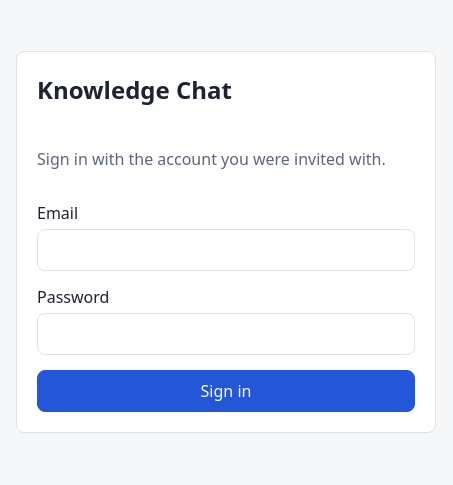
Scenario: a wrong password shows a message that does not reveal whether the account exists
Step 1. Type "nobody@example.com" into the field labelled "Email" → (226, 250), box x1=37 y1=229 x2=415 y2=271
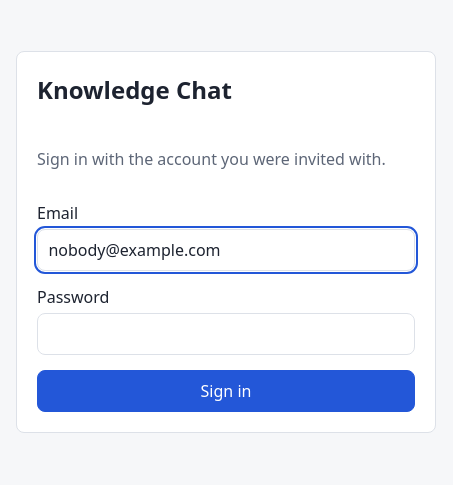
Step 2. Type "x" into the password field labelled "Password" → (226, 334), box x1=37 y1=313 x2=415 y2=355
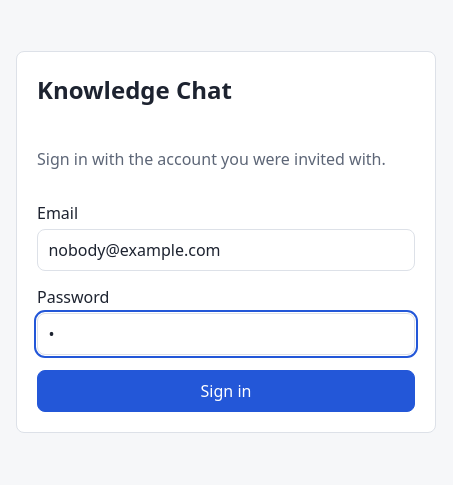
Step 3. Click the button "Sign in" → click(226, 391), box x1=37 y1=370 x2=415 y2=412
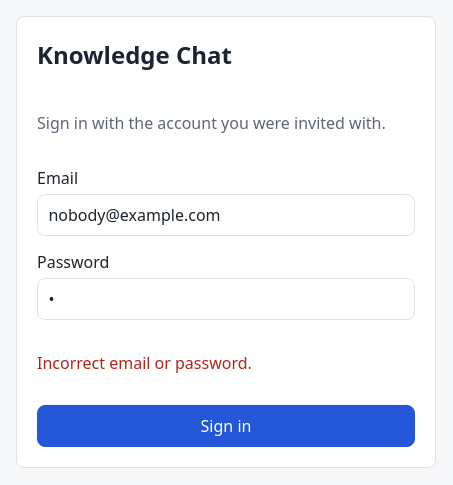
Expected: the message reads "Incorrect email or password.", x1=37 y1=352 x2=252 y2=374
